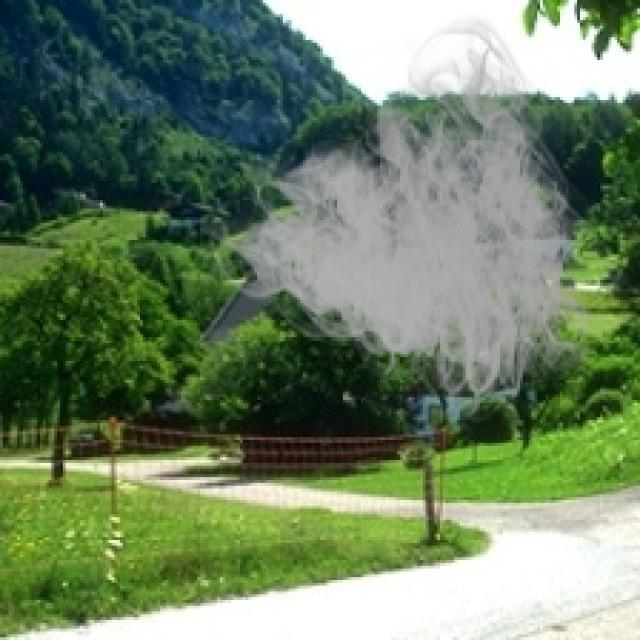Smoke: (200, 12, 614, 434)
